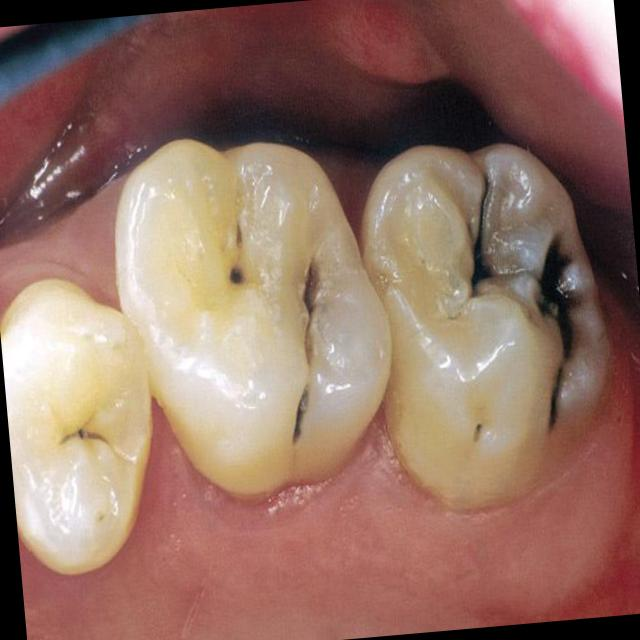Caries: (537, 233, 579, 432), (292, 259, 320, 444), (471, 174, 494, 296), (58, 429, 109, 444), (230, 263, 245, 285), (236, 223, 242, 247), (474, 424, 481, 441)
Tooth: (111, 139, 393, 494), (360, 143, 609, 510), (0, 278, 152, 575)
